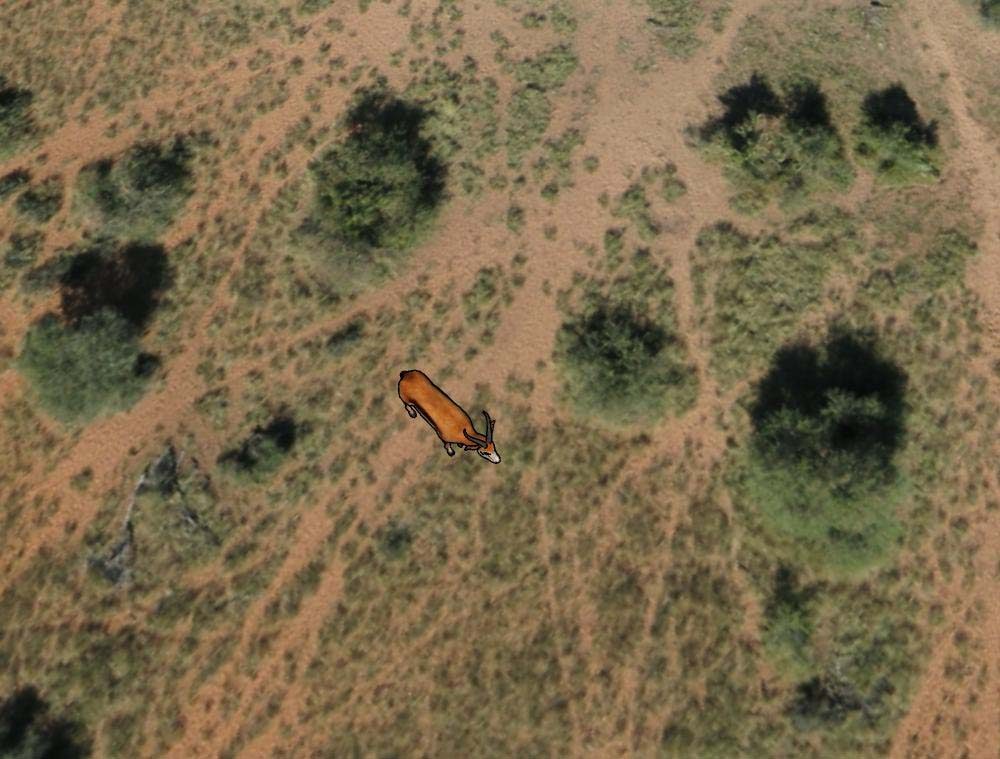springbok: (394, 357, 503, 474)
